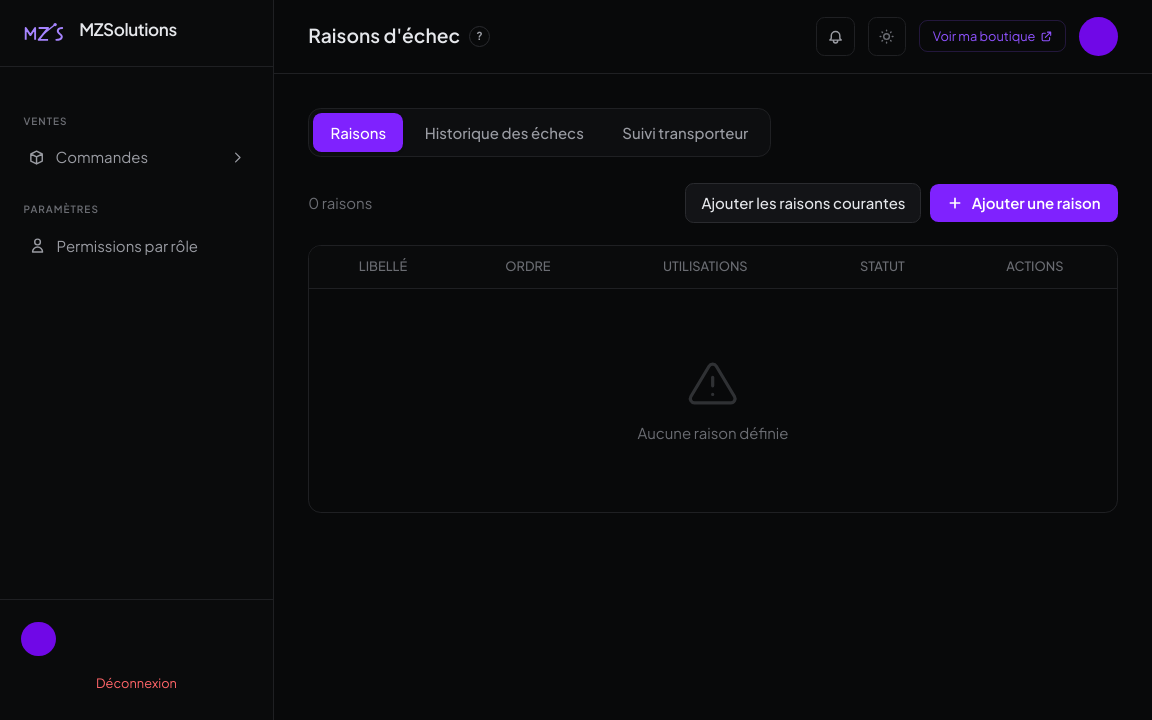
Test case: FailureReasonsPage › shows server-side validation errors without closing the modal
The width and height of the screenshot is (1152, 720).
Expected: the text "Aucune raison définie" is shown, [638,422,788,443]
Click the button "Ajouter une raison" at (1024, 203), box [930,184,1118,222]
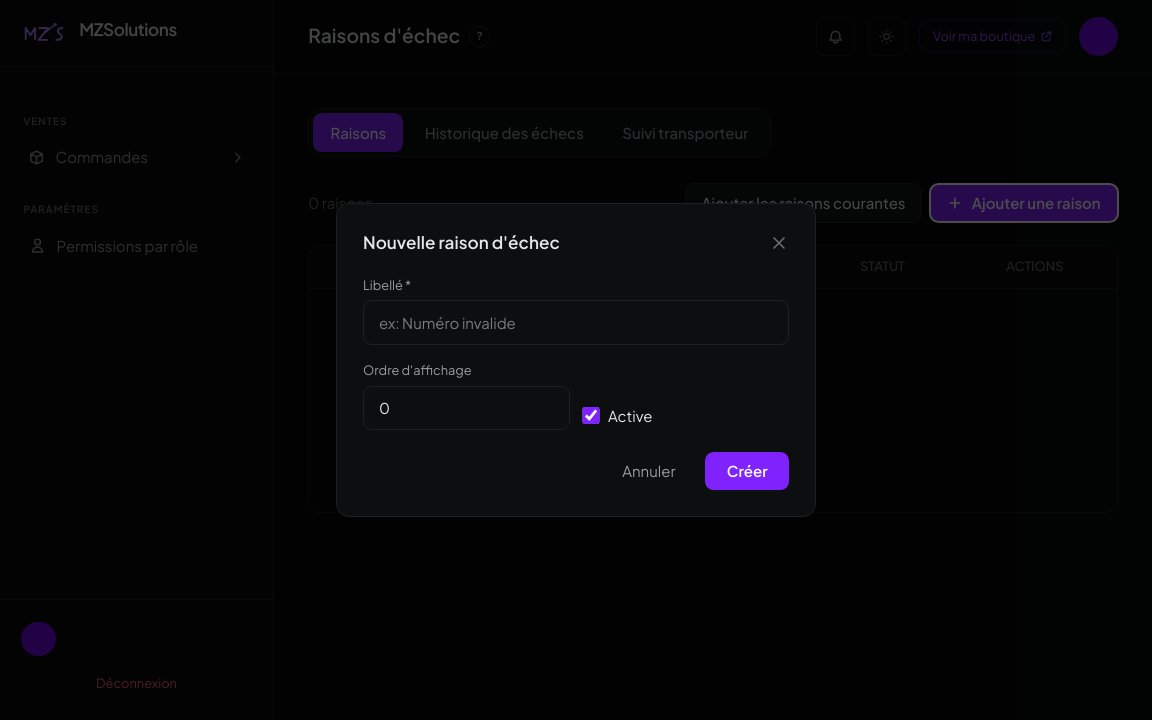
Type "Dupliqué" into the field with placeholder "ex: Numéro invalide" at (576, 323), box [363,300,789,345]
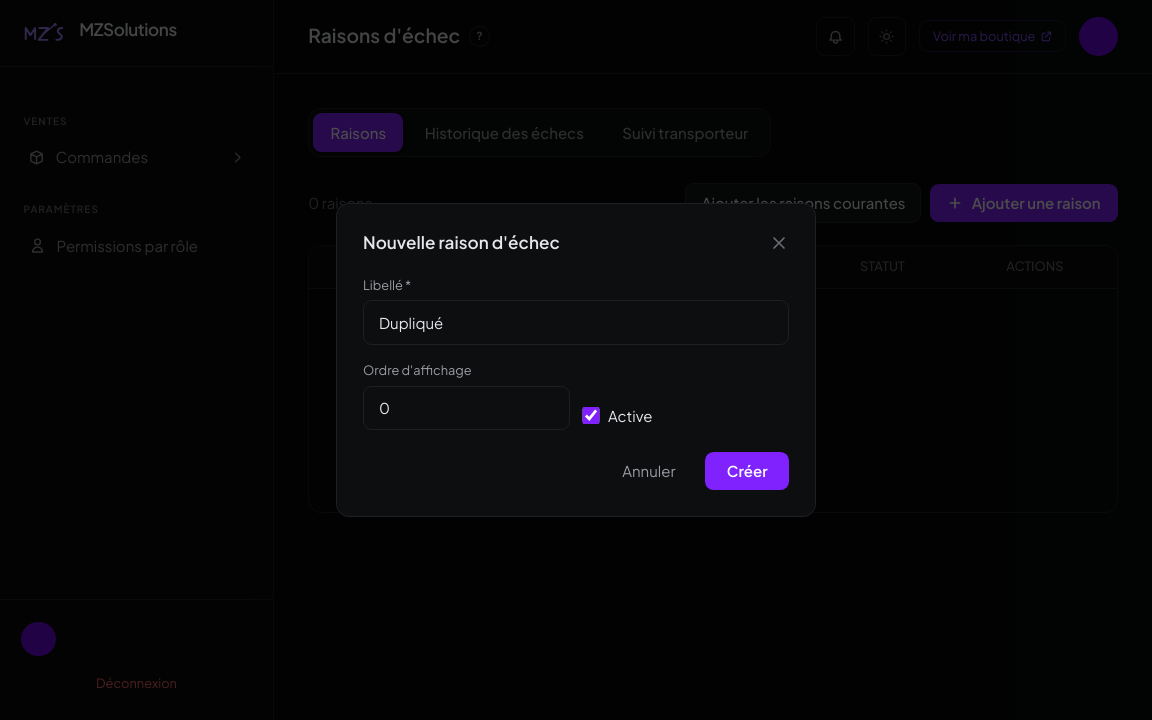
Click the button "Créer" at (747, 471), box [705,452,789,490]
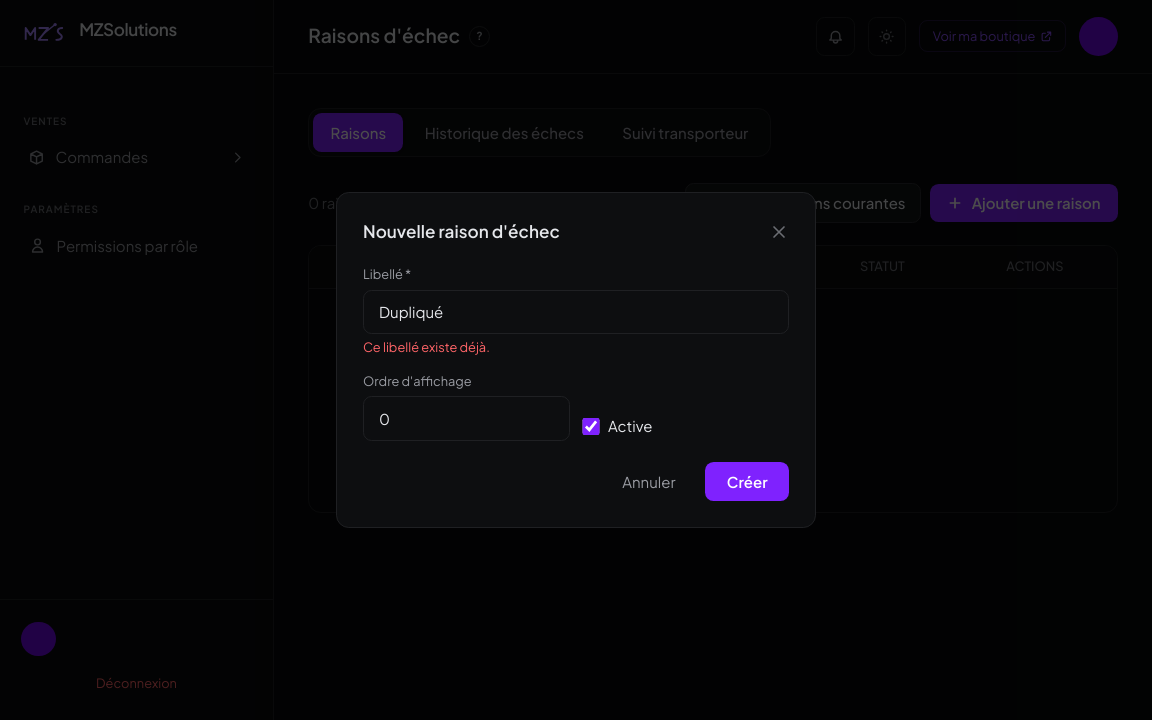
Expected: the text "Ce libellé existe déjà." is shown, [363,339,490,355]
